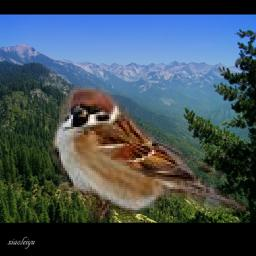Sparrow: (45, 87, 249, 222)
